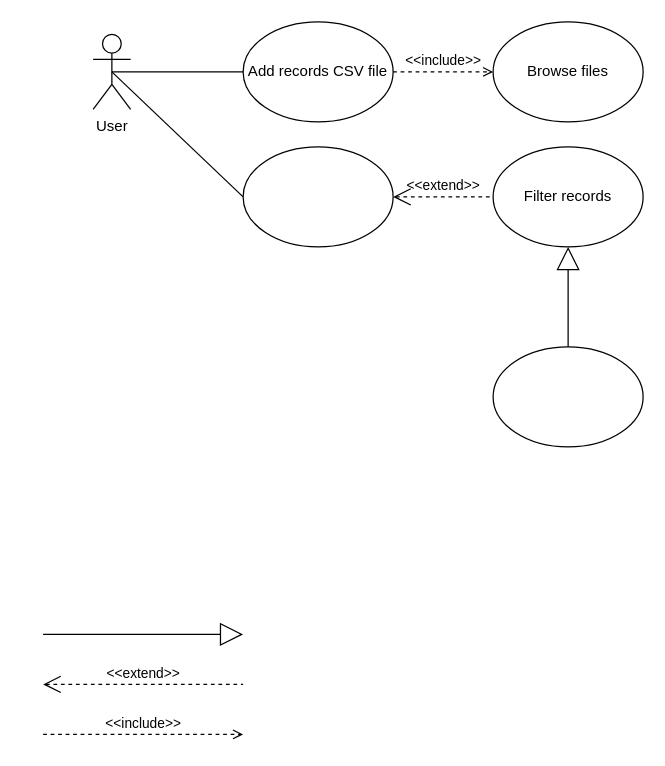
This 665x766 diagram has some shape labels left out. Here are the shapes that lost their labels. From the top down, the centre of each, then its label:
point 317,196: View records
point 567,396: Filter by date
